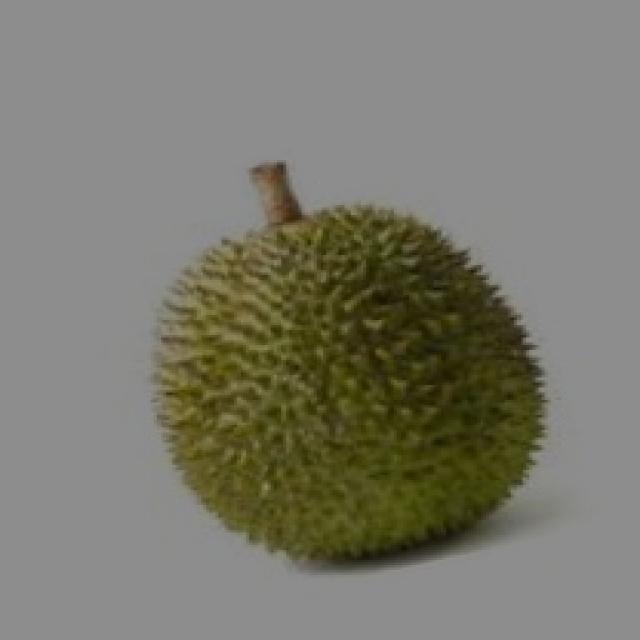fruit: (101, 180, 502, 605)
